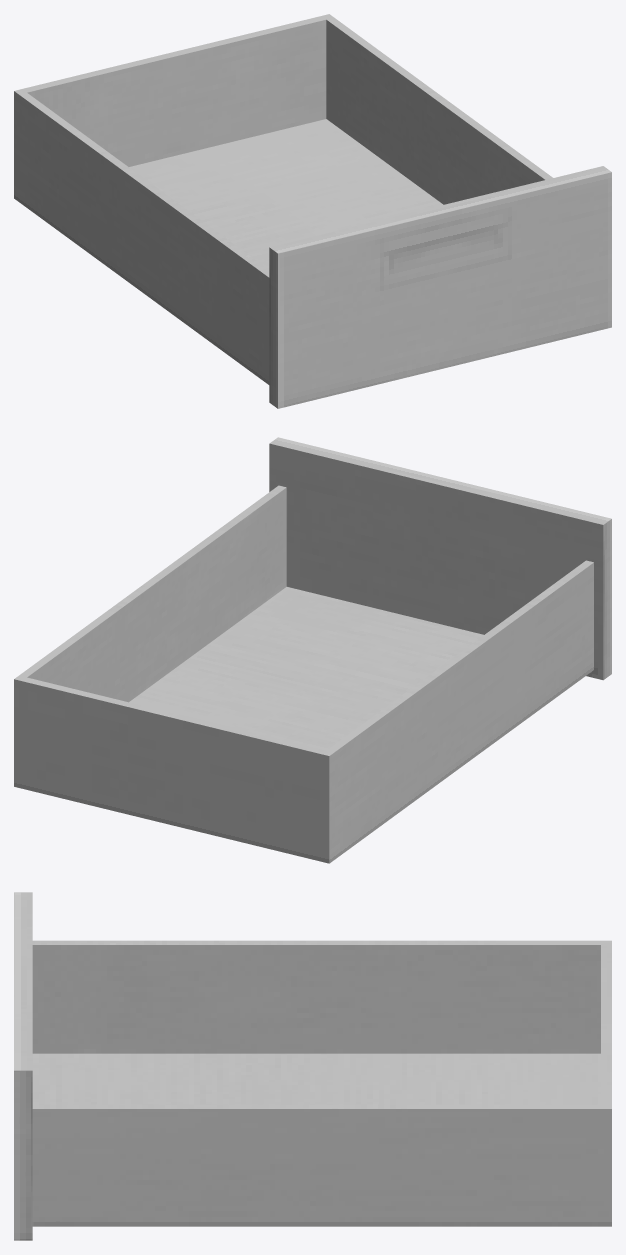
Rendered from DeskDrawer001.glb.
3 renders of one model, top to bottom at view 1: azimuth 30°, elevation 25°; view 2: azimuth 150°, elevation 25°; view 3: azimuth 270°, elevation 25°, orthographic. The views are drawn at different scales.
Visible parts, largest first — view 1: desk drawer.001; view 2: desk drawer.001; view 3: desk drawer.001.
Part boxes in pixels (x1=…): desk drawer.001: x1=14, y1=14, x2=611, y2=408; desk drawer.001: x1=14, y1=437, x2=611, y2=863; desk drawer.001: x1=14, y1=892, x2=611, y2=1240.
Size of the model in its own units: 0.45 by 0.2 by 0.6379.
1 material, 1 textured.
